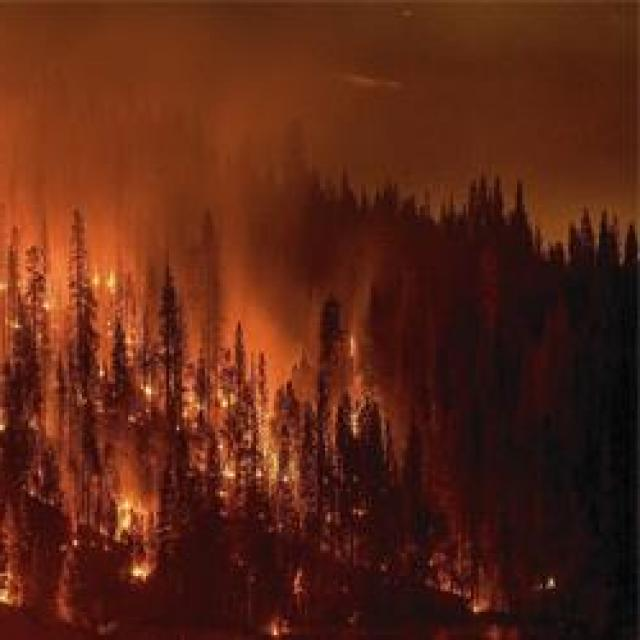smoke: (224, 262, 292, 360)
